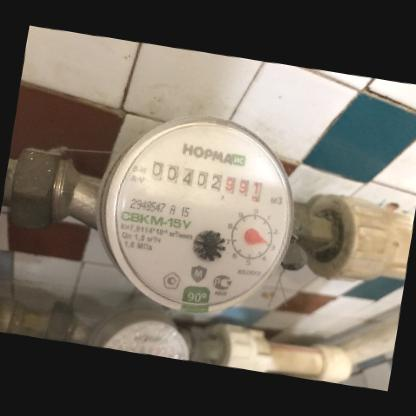digital_screen: (146, 153, 229, 200)
